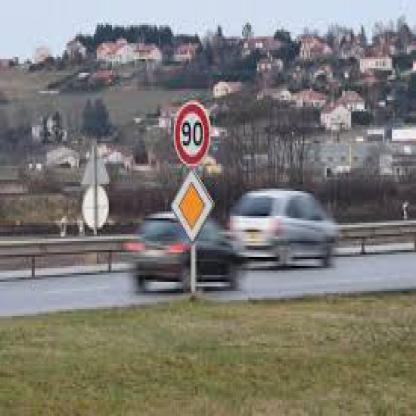Speed Limit 90: (177, 99, 209, 166)
